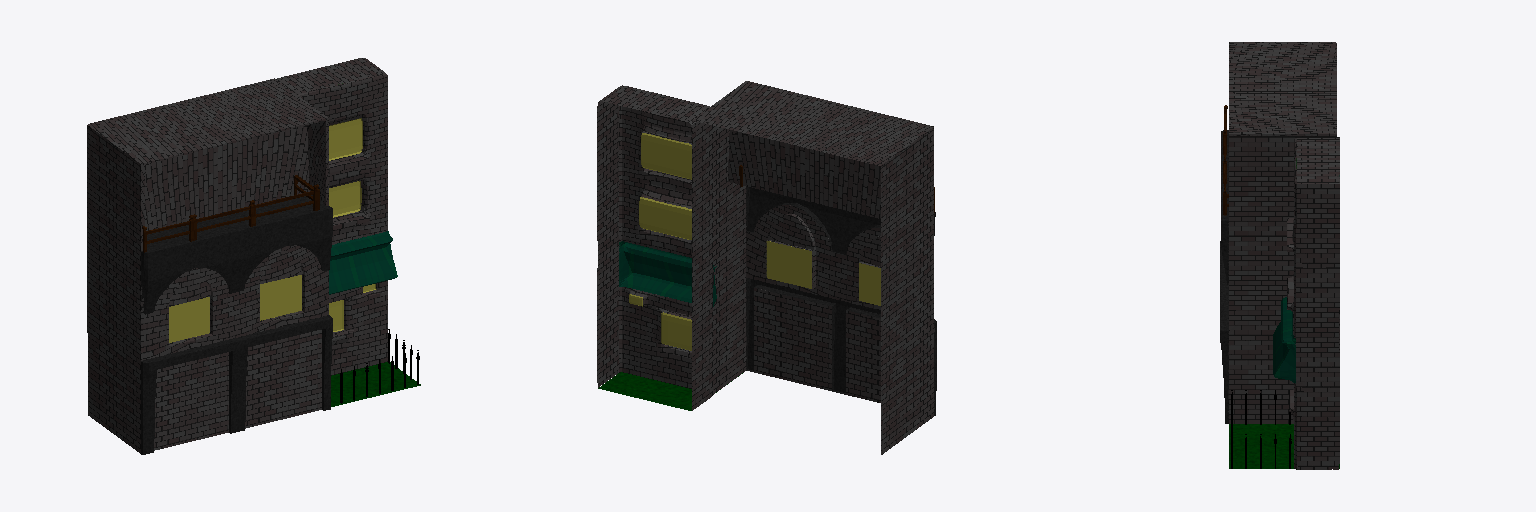
3 views of the same model, side by side, from view 1: azimuth 30°, elevation 25°; view 2: azimuth 150°, elevation 25°; view 3: azimuth 270°, elevation 25° (orthographic).
Visible parts, largest first — view 1: module2.001; view 2: module2.001; view 3: module2.001.
Part boxes in pixels (x1,y1,x2,y2): module2.001: (87, 58, 420, 454); module2.001: (597, 81, 936, 454); module2.001: (1220, 42, 1339, 469).
Size of the model in its own units: 16.34 by 16.1 by 6.02.
1 materials, 1 textured.